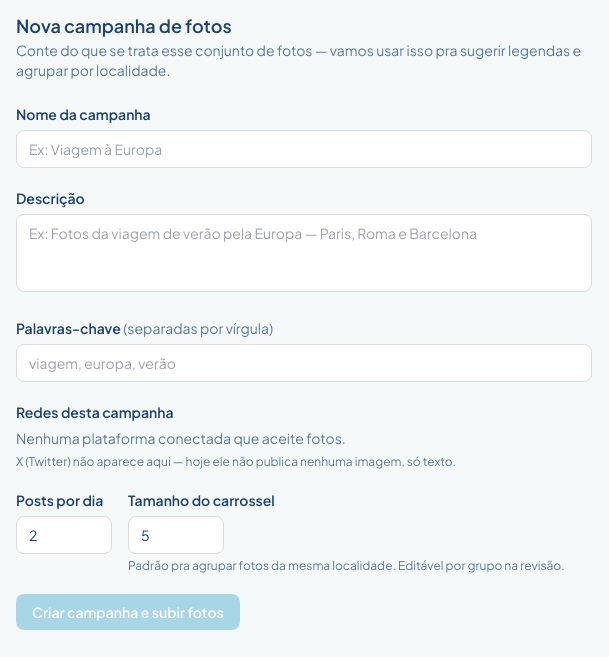
Test: NewCampaignPage › allows clearing and retyping "posts por dia" without snapping to 1 or 10
Clear the number field labelled "Posts por dia" at coordinates (64, 535), box x1=16 y1=516 x2=112 y2=554
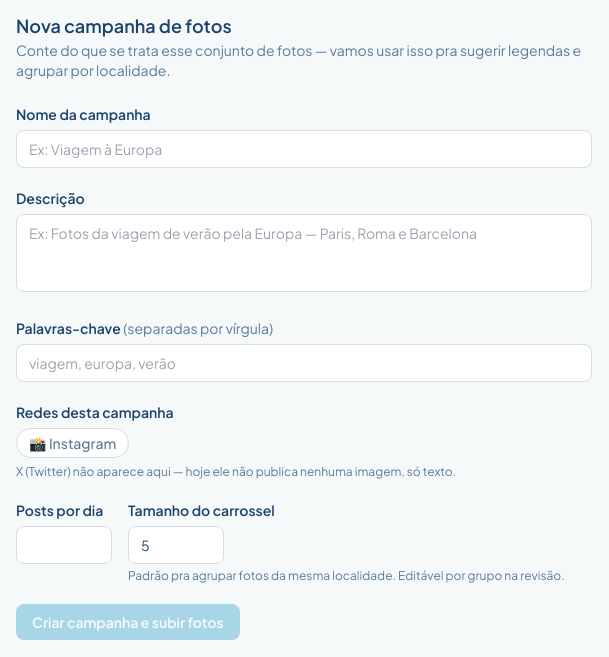
Type "5" into the number field labelled "Posts por dia" at coordinates (64, 545), box x1=16 y1=526 x2=112 y2=564
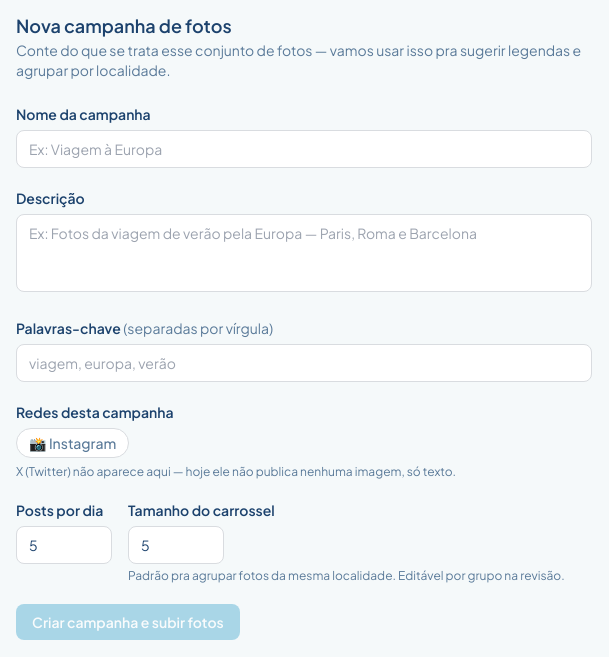
Replace the text in the number field labelled "Posts por dia" with "99" at coordinates (64, 545), box x1=16 y1=526 x2=112 y2=564
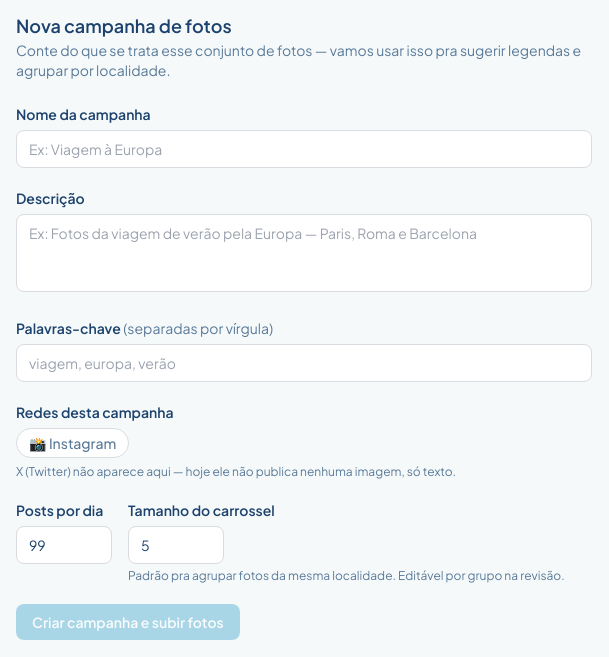
Leave the number field labelled "Posts por dia", box x1=16 y1=526 x2=112 y2=564
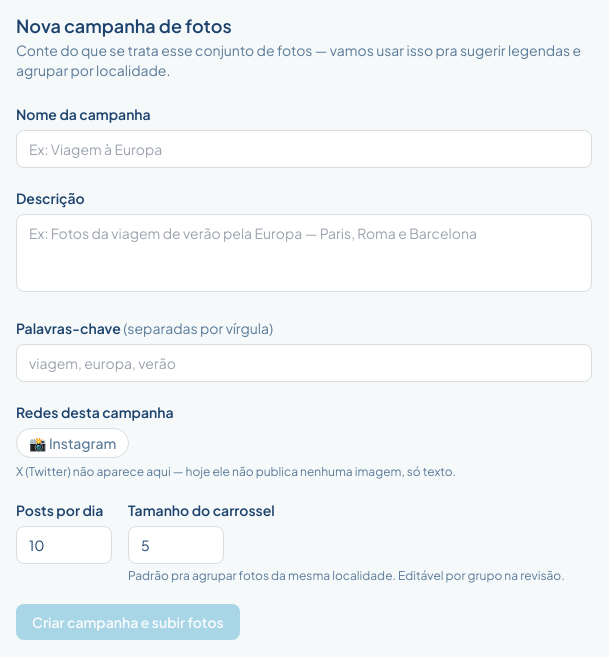
Now the number field labelled "Posts por dia" holds "10", box x1=16 y1=526 x2=112 y2=564
